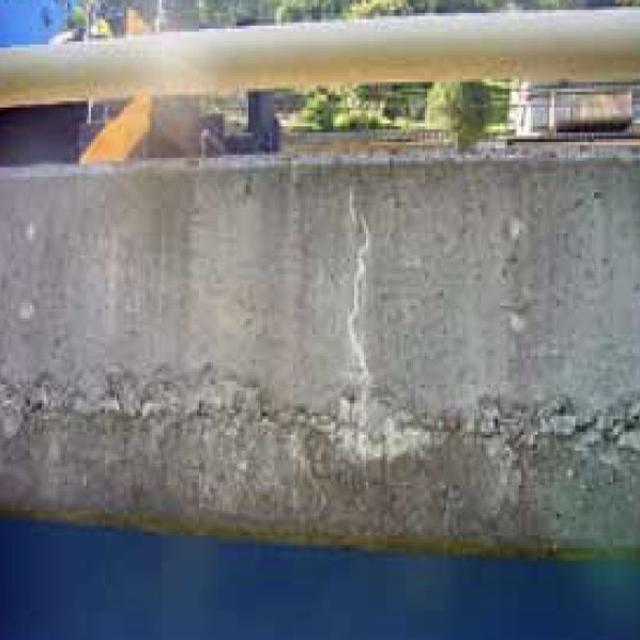freelime: (342, 199, 412, 464)
